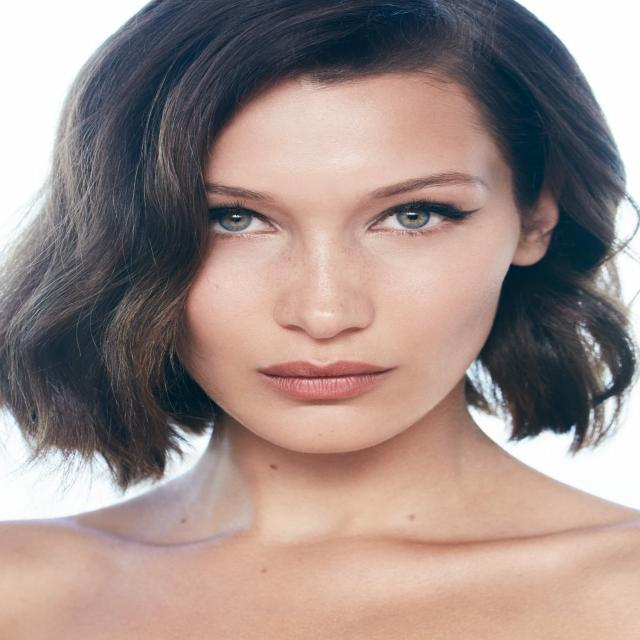earlobe: (512, 227, 545, 268)
eye: (362, 200, 458, 234), (203, 206, 283, 236)
nose: (278, 321, 372, 363)
wholeear: (512, 173, 560, 267)
